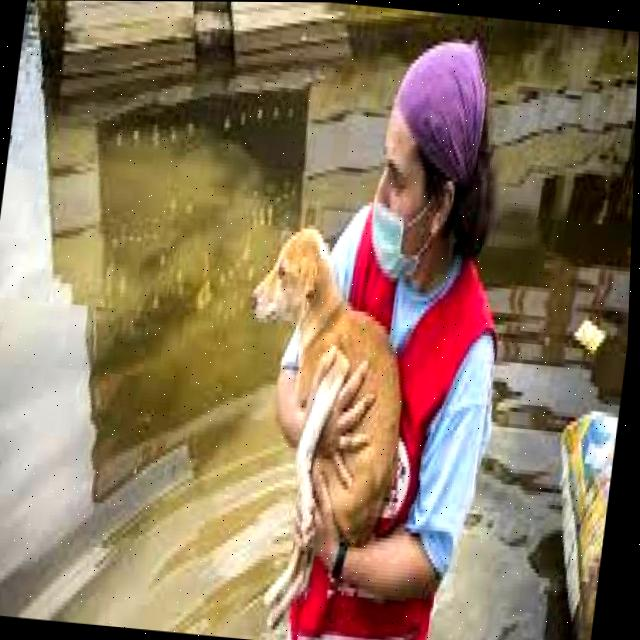civilian: (295, 20, 569, 640)
dog: (224, 221, 429, 554)
